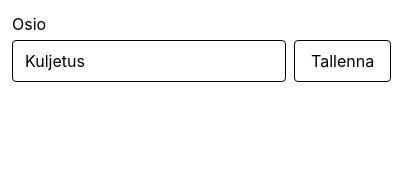
Test case: FieldForm › starts from its value, and sends it with its fields
The image size is (408, 172).
Later steps or results of the test are not shown.
Replace the text in the field labelled "Osio" with "Laukaus" at (149, 61), box left=12, top=40, right=286, bottom=82
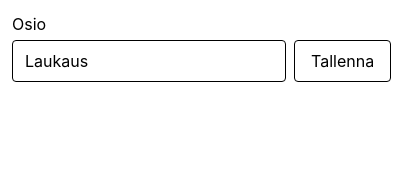
Click the button "Tallenna" at (343, 61), box left=294, top=40, right=391, bottom=82
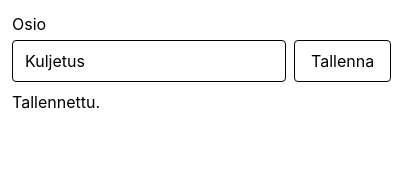
Check: the text "Tallennettu." is shown, box left=12, top=92, right=100, bottom=112
Check: the field labelled "Osio" holds "Kuljetus", box left=12, top=40, right=286, bottom=82
